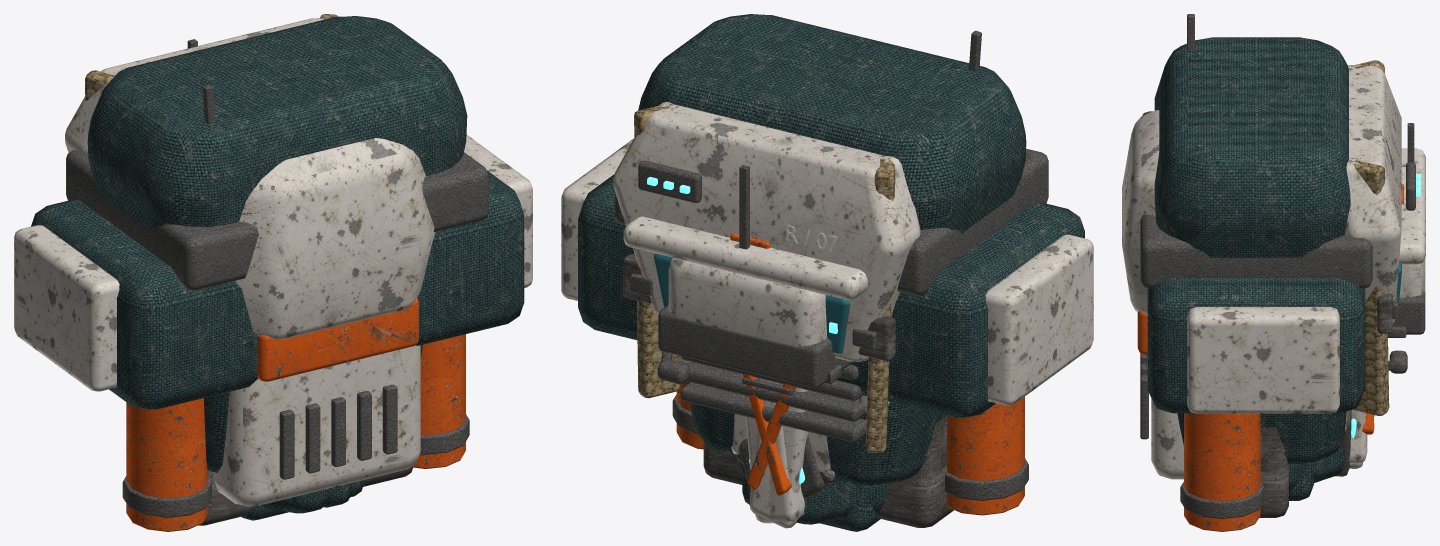
The model's file is rivet.gltf.
3 renders of one model, left to right at view 1: azimuth 30°, elevation 25°; view 2: azimuth 150°, elevation 25°; view 3: azimuth 270°, elevation 25°, orthographic. The views are drawn at different scales.
Visible parts, largest first — view 1: hips, torso, pack, head, rThigh; view 2: torso, hips, lBoot, pack, head, rElbow, lElbow, lThigh, lArm; view 3: torso, hips, pack, head, lBoot, rElbow, rThigh, lArm.
Part boxes in pixels (left/top/right/bottom): hips: left=14, top=135, right=532, bottom=409; torso: left=65, top=14, right=467, bottom=472; pack: left=122, top=84, right=469, bottom=531; head: left=235, top=138, right=435, bottom=339; rThigh: left=263, top=489, right=327, bottom=513; torso: left=613, top=14, right=1026, bottom=485; hips: left=561, top=138, right=1093, bottom=417; lBoot: left=658, top=257, right=850, bottom=388; pack: left=672, top=30, right=1028, bottom=527; head: left=623, top=216, right=889, bottom=410; rElbow: left=739, top=380, right=827, bottom=528; lElbow: left=741, top=374, right=804, bottom=523; lThigh: left=796, top=432, right=886, bottom=524; lArm: left=742, top=463, right=880, bottom=531; torso: left=1154, top=37, right=1420, bottom=463; hips: left=1140, top=111, right=1403, bottom=413; pack: left=1137, top=14, right=1288, bottom=531; head: left=1122, top=110, right=1425, bottom=373; lBoot: left=1388, top=258, right=1425, bottom=337; rElbow: left=1335, top=410, right=1374, bottom=476; rThigh: left=1289, top=411, right=1346, bottom=491; lArm: left=1289, top=462, right=1313, bottom=500.
Size of the model in its own units: 0.6432 by 0.6353 by 0.4185.
11 materials, 7 textured.
